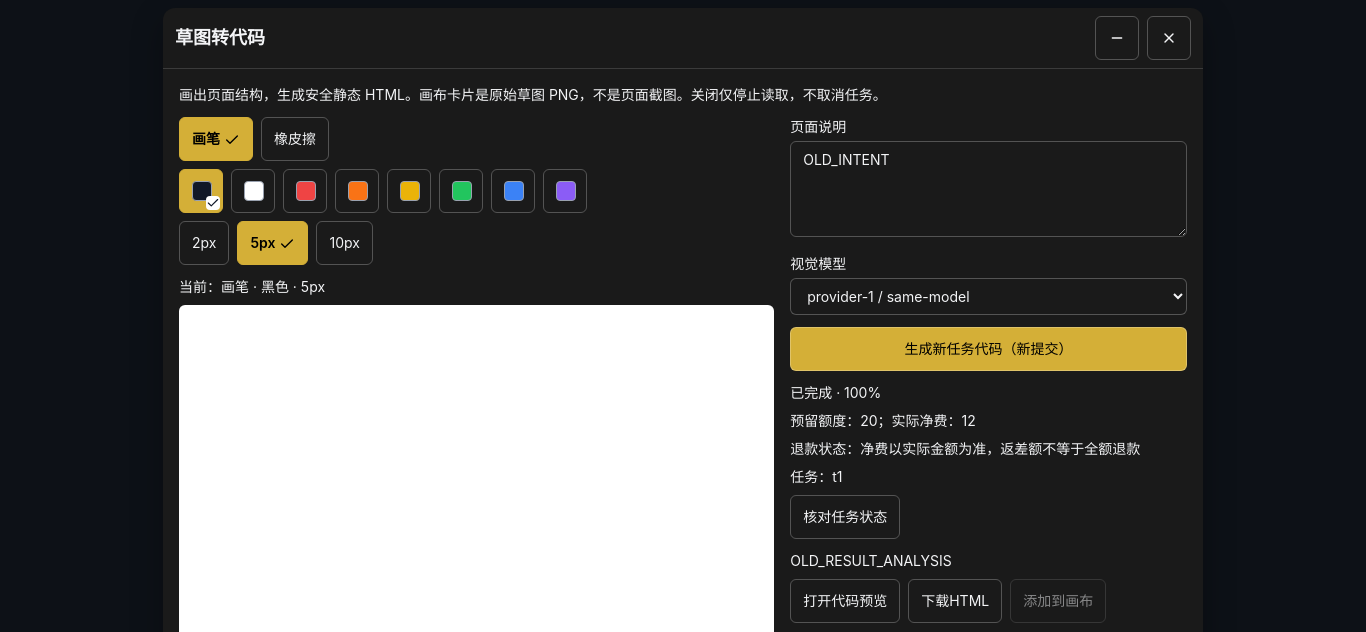
Test case: fix1 I1：新提交与当前交付身份 › completed → 新提交明确拒绝时不恢复旧结果、不虚构受理或退款并保留草图
Click the button "核对任务状态" at (845, 517), box top-left (790, 495), bottom-right (900, 539)
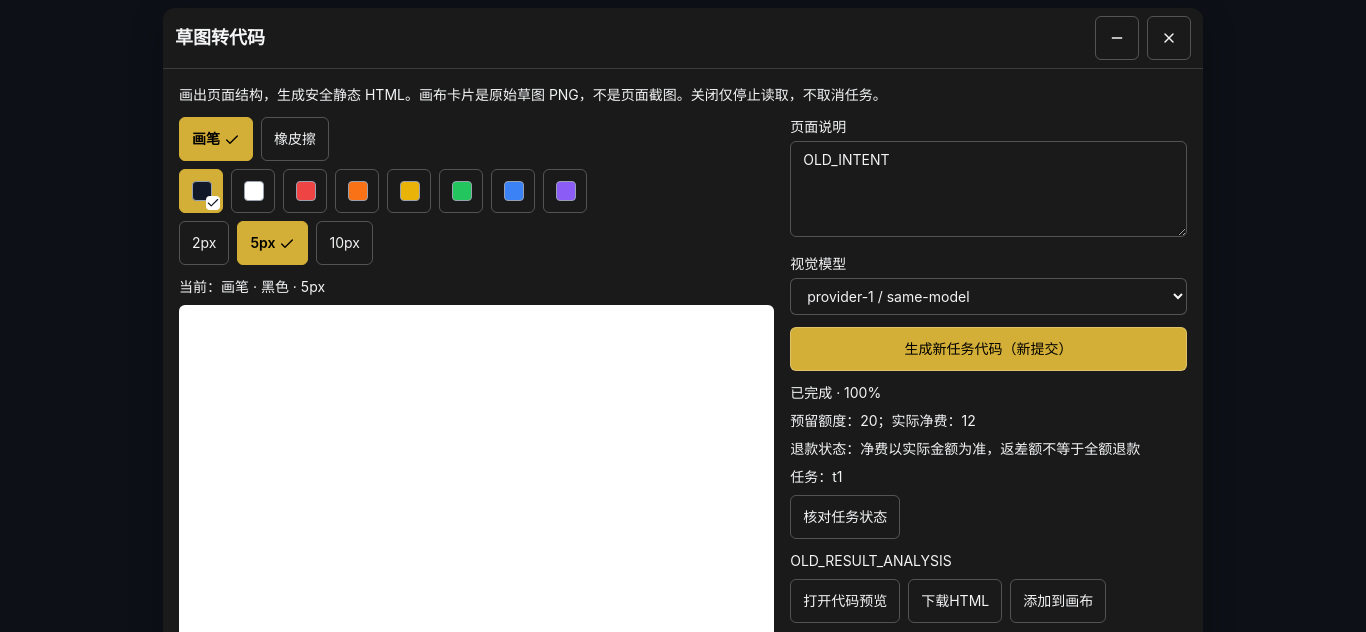
Click the button "打开代码预览" at (845, 601), box top-left (790, 579), bottom-right (900, 623)
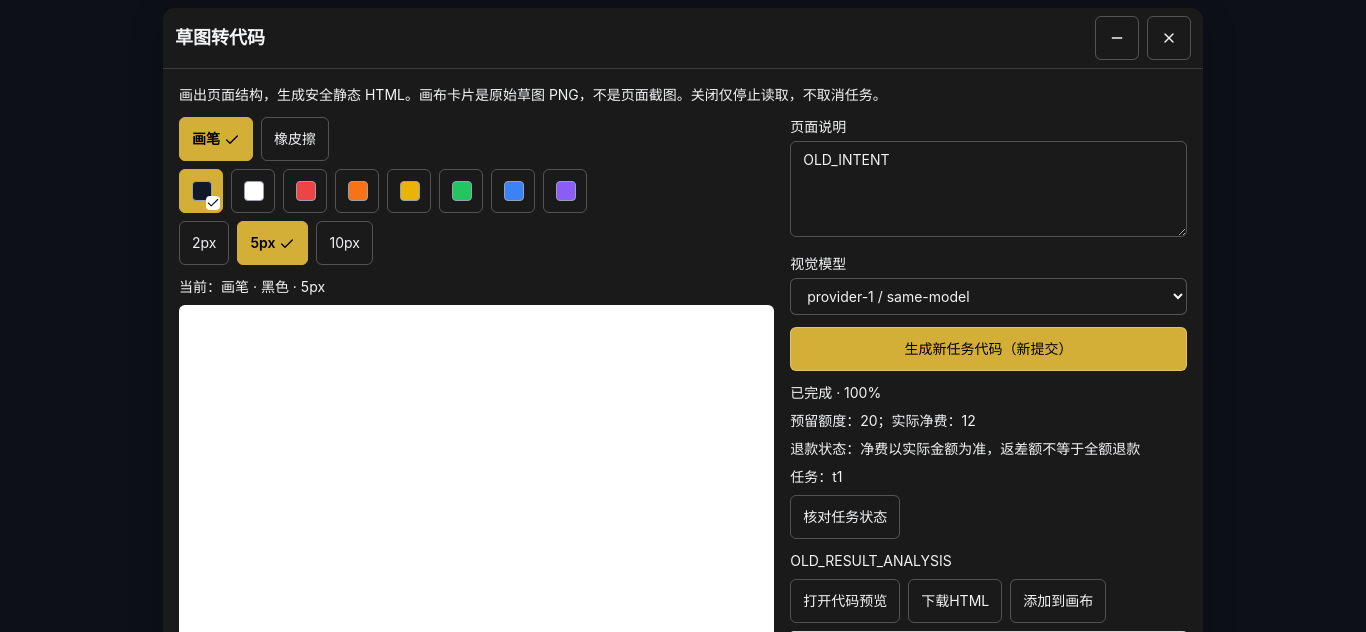
expect the text "OLD_RESULT_ANALYSIS" is shown: met, box top-left (790, 552), bottom-right (952, 569)
expect the button "添加到画布" is enabled: met, box top-left (1010, 579), bottom-right (1106, 623)
Replace the text in the text box labelled "页面说明" with "REJECTED_NEW_INTENT" at (989, 189), box top-left (790, 141), bottom-right (1187, 237)
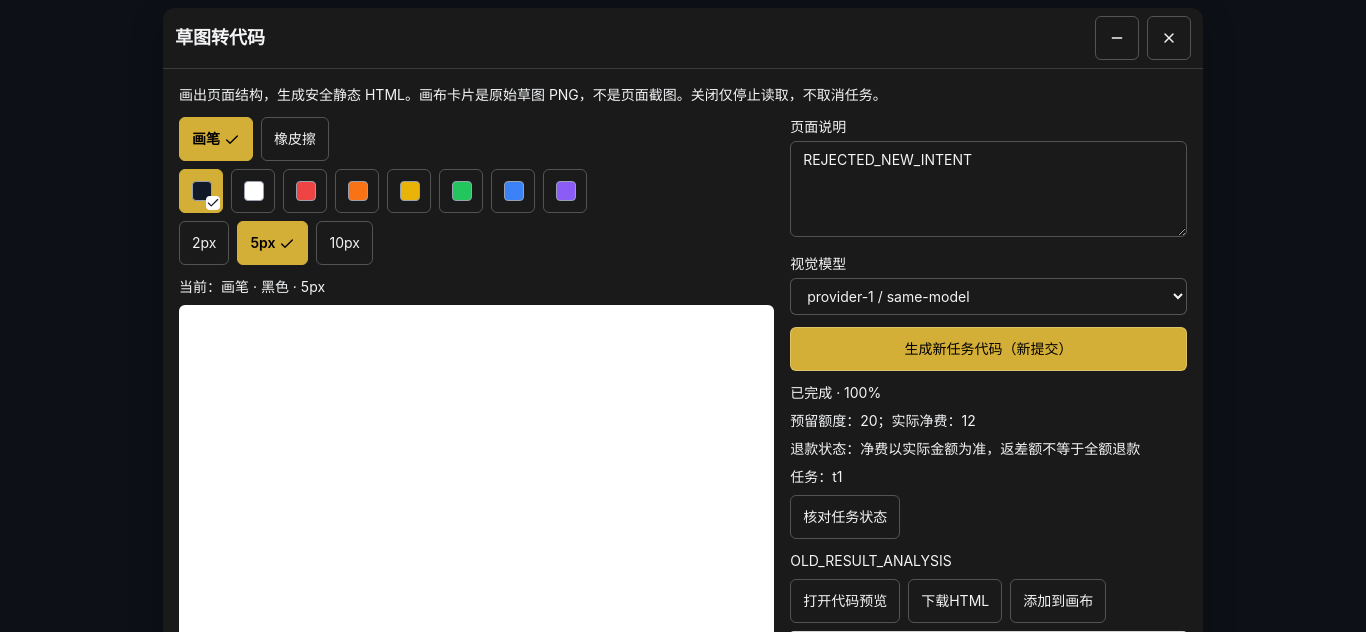
Click the button "生成新任务代码（新提交）" at (989, 349), box top-left (790, 327), bottom-right (1187, 371)
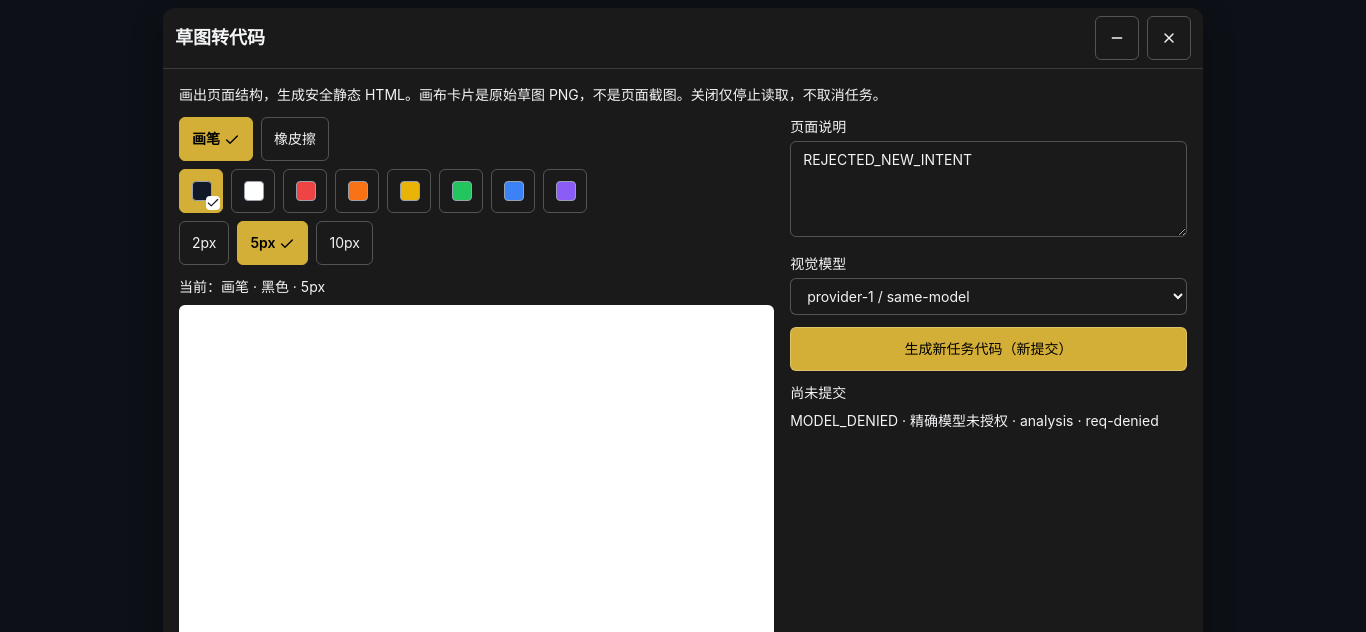
expect the text "MODEL_DENIED · 精确模型未授权 · analysis · req-denied" is shown: met, box top-left (790, 411), bottom-right (1187, 431)
expect the text "OLD_RESULT_ANALYSIS" is gone: met
expect the button "打开代码预览" is gone: met
